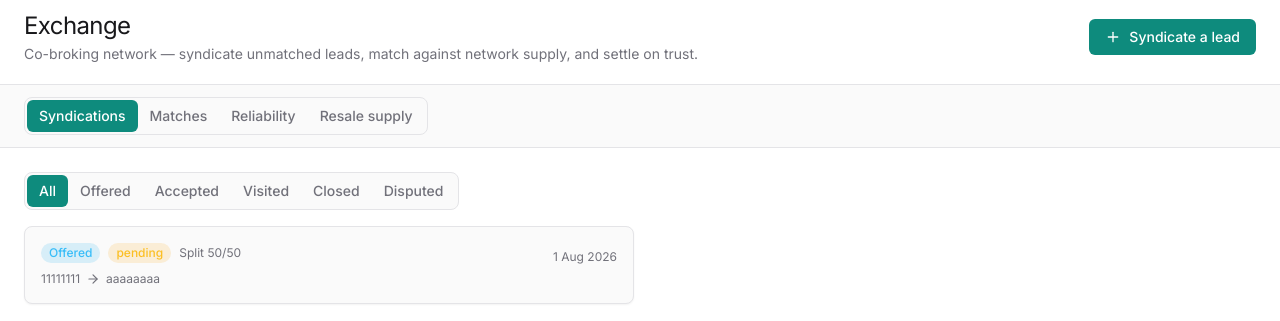
Test: ExchangePage tabs › swaps the header action to match the tab
Check: the button "Syndicate a lead" is shown, box [1089,19,1256,55]
What coordinates should you click on to do the following:
click the button "Resale supply"
I would click on:
 (366, 116)
Its box is [308,100,425,132].
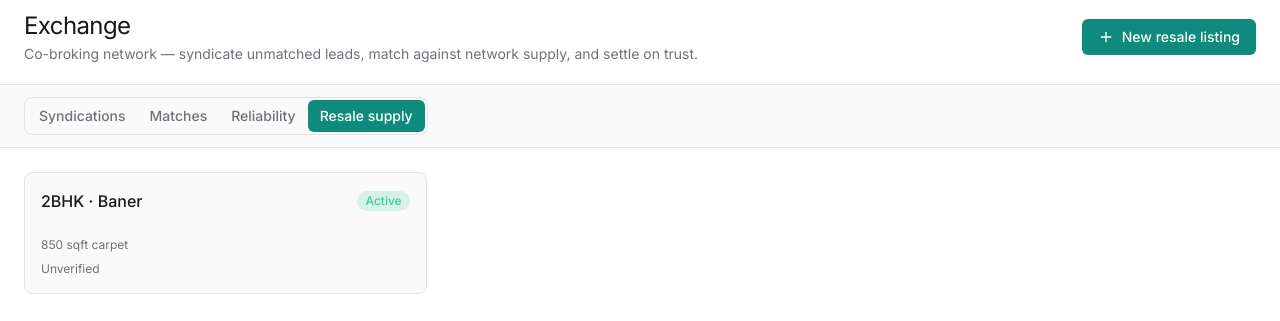
Check: the button "Syndicate a lead" is gone
Check: the button "New resale listing" is shown, box [1082,19,1256,55]
